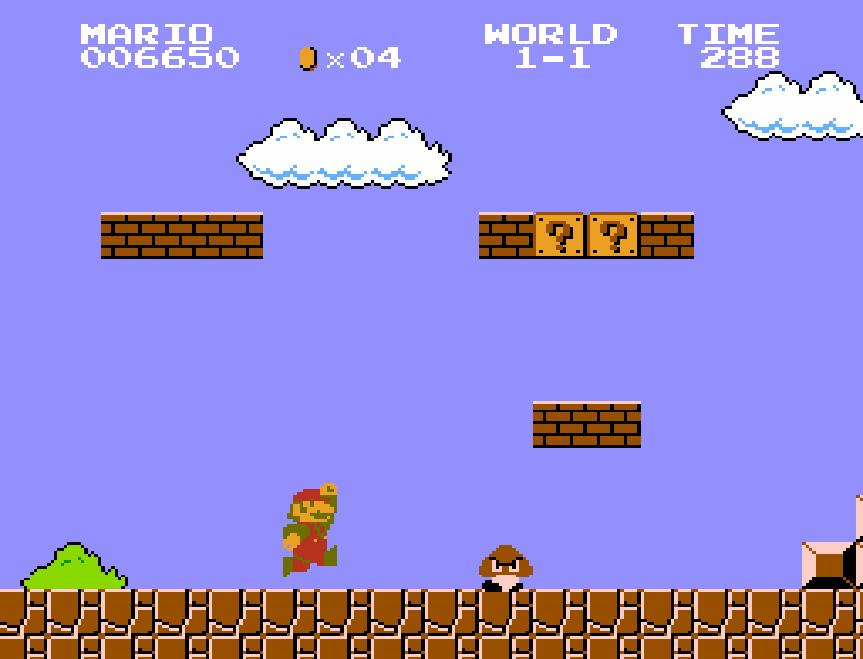big_mario: (280, 482, 338, 580)
